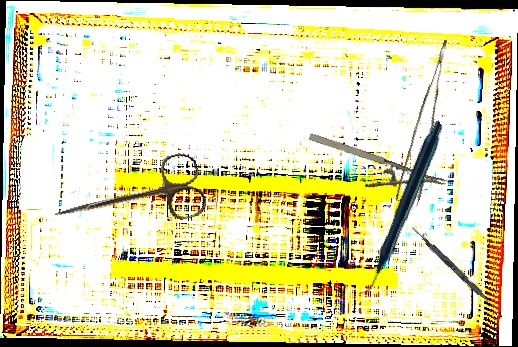Handpiece: (305, 120, 496, 295)
Iris Scissors: (48, 149, 209, 250)
Needle Holder: (300, 128, 447, 214)
Spatula Surgical: (408, 225, 507, 318)
Tissue Forceps: (387, 39, 474, 209)
